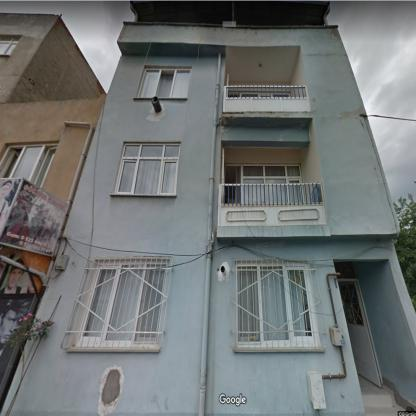door: (340, 283, 380, 387), (221, 149, 224, 183)
window: (76, 264, 168, 345), (236, 262, 315, 346), (115, 144, 180, 194), (1, 144, 57, 185), (138, 68, 190, 97), (242, 165, 302, 183), (334, 263, 356, 280), (1, 38, 19, 54)
